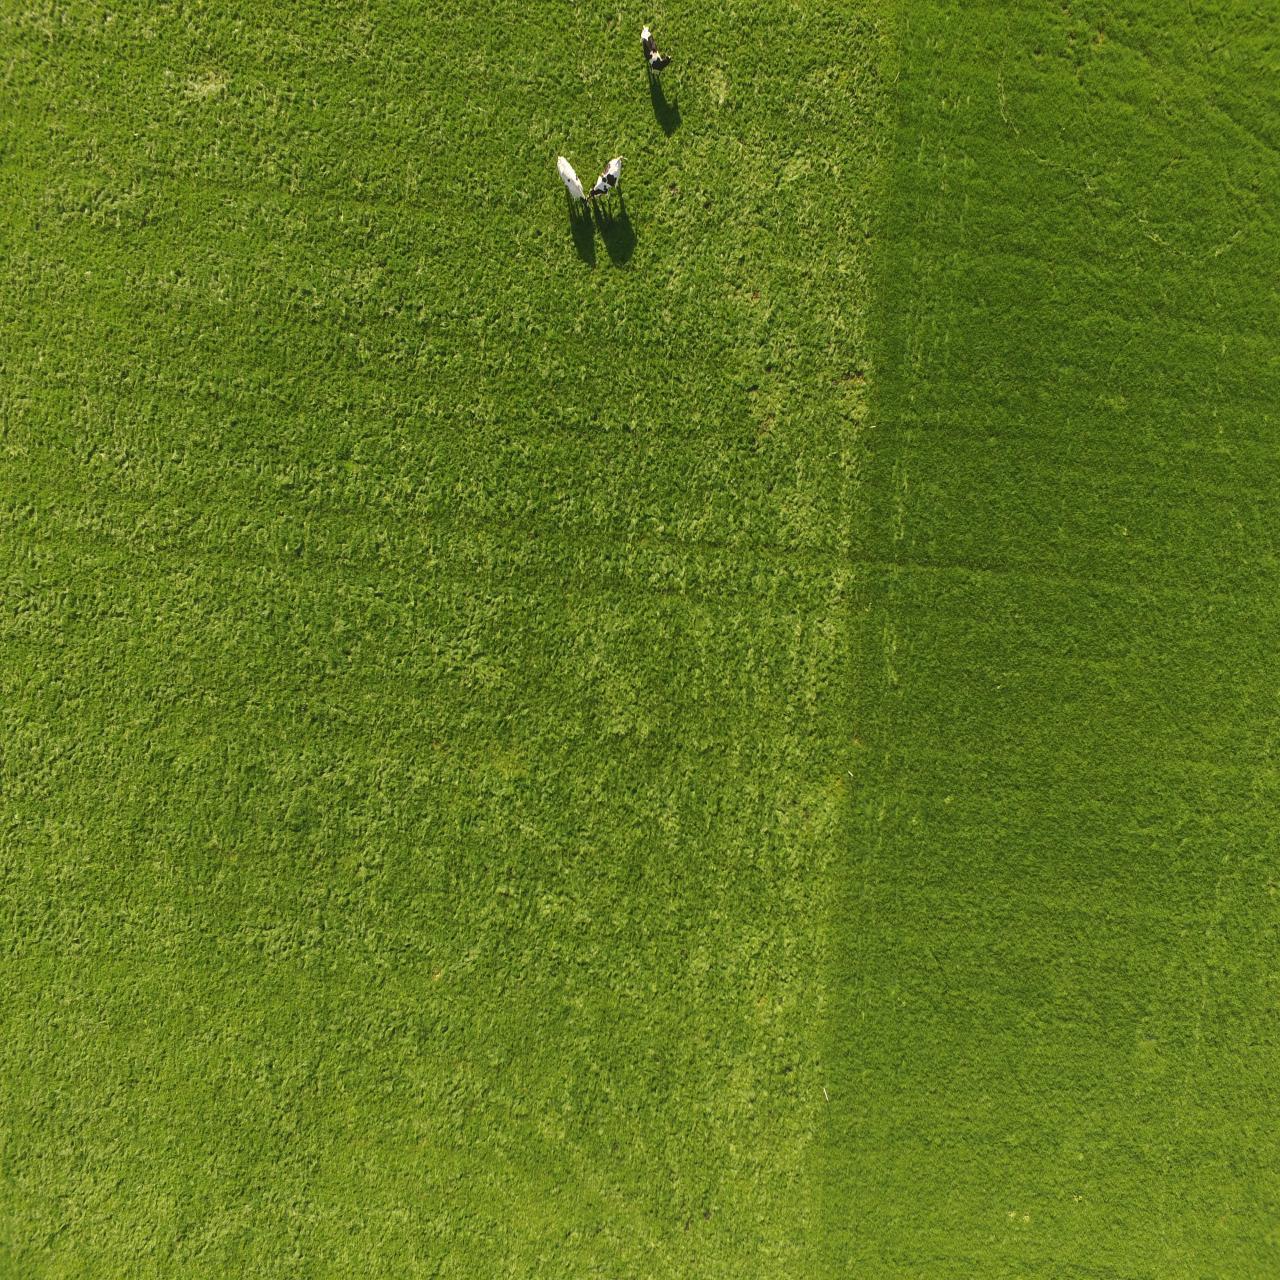cow: (636, 21, 675, 77), (553, 154, 588, 209), (591, 150, 629, 197)
